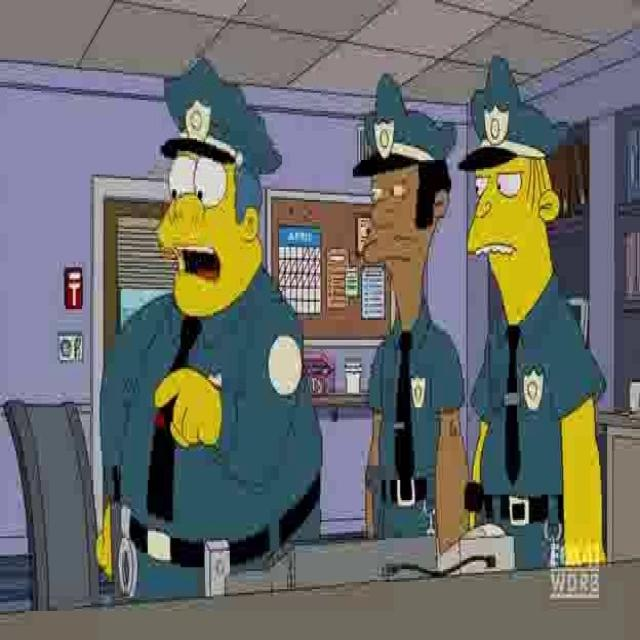Chief Wiggam: (153, 58, 286, 324)
